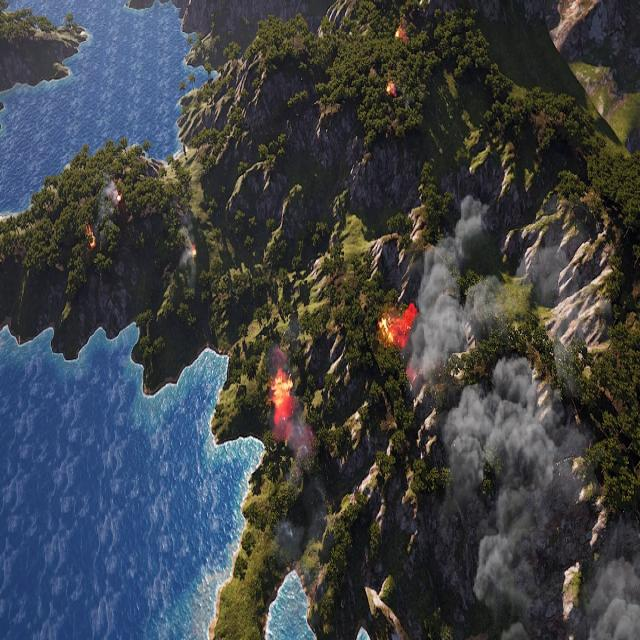fire: (376, 299, 418, 354), (267, 369, 296, 418), (85, 224, 98, 250), (384, 80, 398, 100), (395, 22, 406, 46), (192, 244, 197, 257)
smoke: (403, 191, 640, 640), (266, 343, 328, 564), (176, 208, 198, 290), (96, 174, 118, 226)
